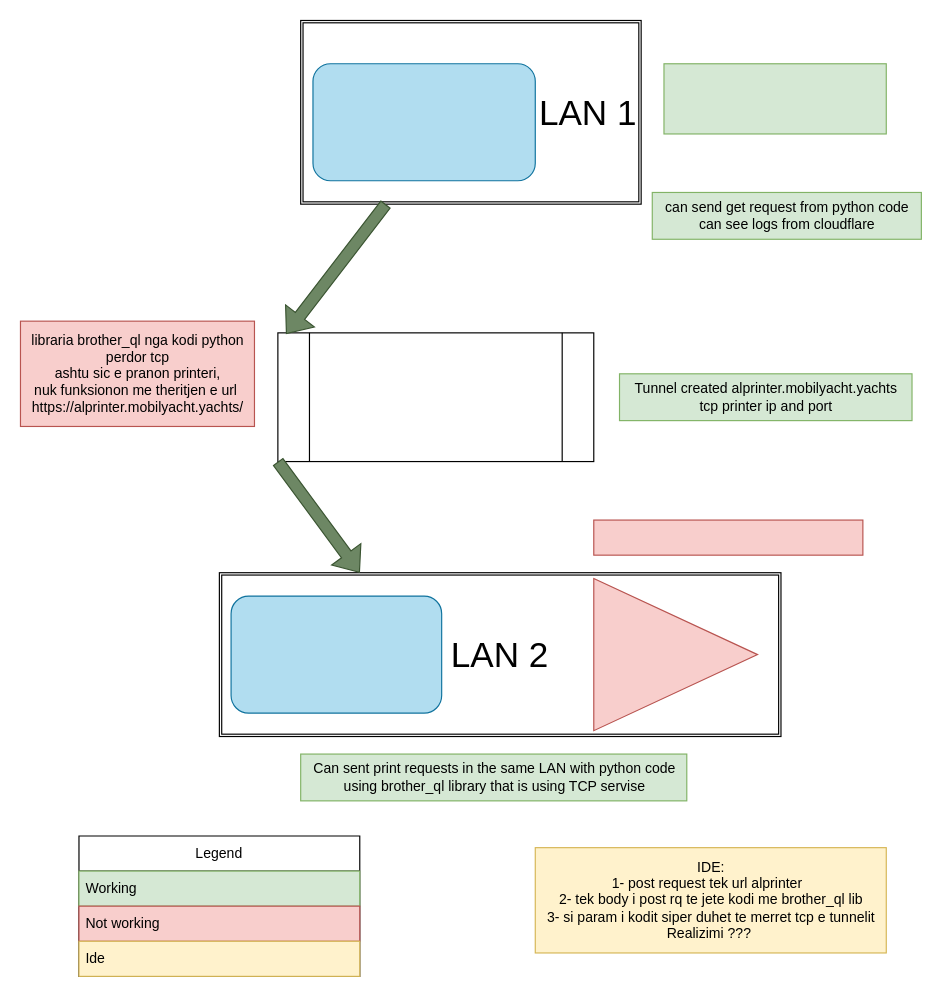
Image size: 942x997. Some labels were removed from this diagram. Here are the shapes that lost their labels. From the top down, the centre of each, then its label:
At point (774, 98): "working ping alprinter.mobilyacht.yachts logs can be read from cloudflare".
At point (423, 122): "Local server deploy (cloudflare wrap client installed)".
At point (435, 397): "Cloudflare".
At point (728, 537): "printeri nuk suporton http(s), vetem tcp".
At point (336, 654): "PC (cloudflare installed)".
At point (675, 654): "PRINTER".
